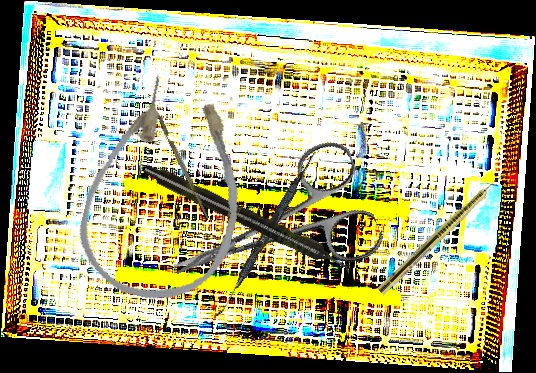Cannula: (67, 65, 266, 315)
Chopper: (146, 101, 210, 223)
Handpiece: (140, 159, 354, 278), (376, 165, 512, 298)
Iris Scissors: (151, 134, 388, 324)
Spatula Surgical: (215, 148, 318, 321)
